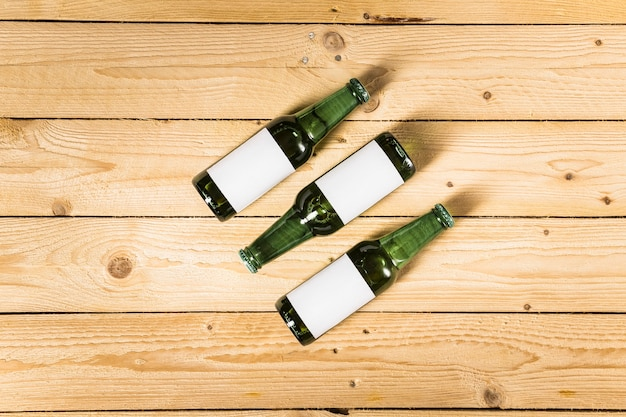alcohol: (188, 77, 373, 222), (274, 204, 455, 347), (237, 131, 416, 274)
